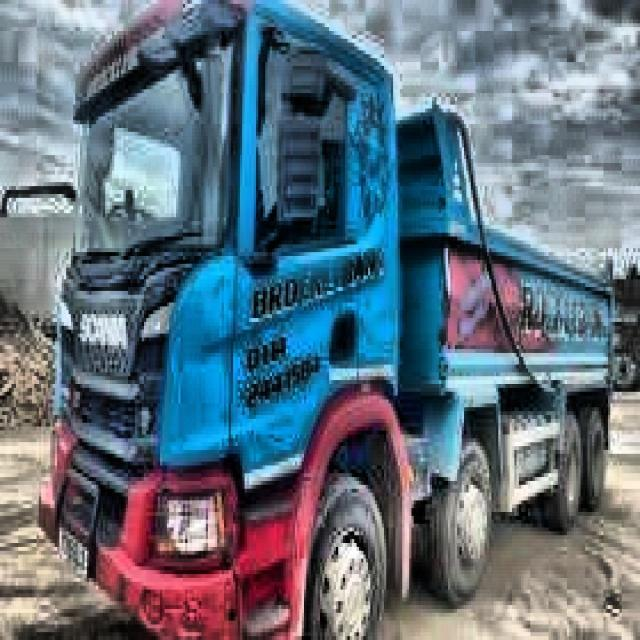dump_truck: (38, 0, 616, 640)
